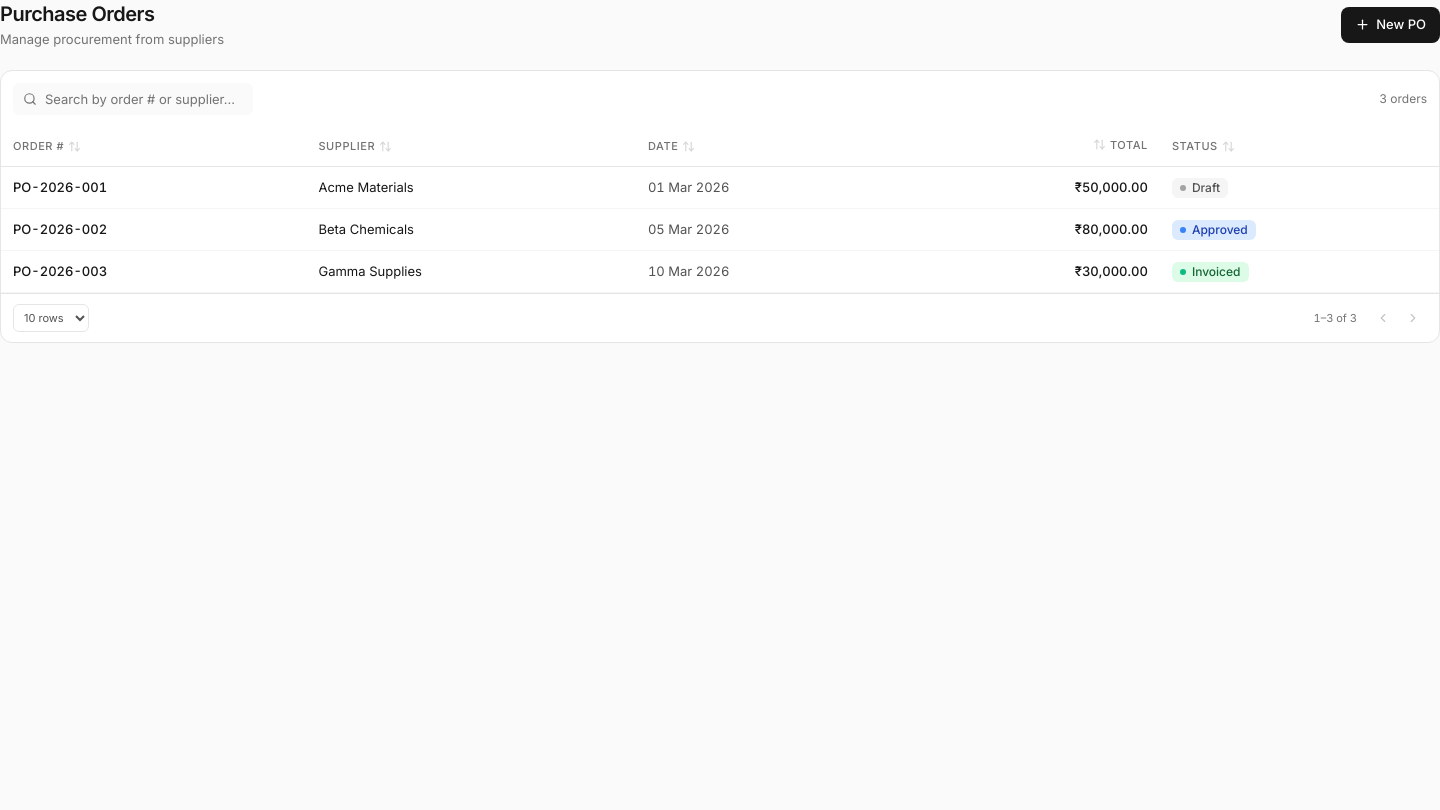
PurchaseOrdersPage › shows only Close Order action for INVOICED PO (VAL-P2P-004)
What coordinates should you click on to do the following:
click the text "PO-2026-003"
I would click on:
 (60, 270)
Its box is 13,262 -> 107,278.
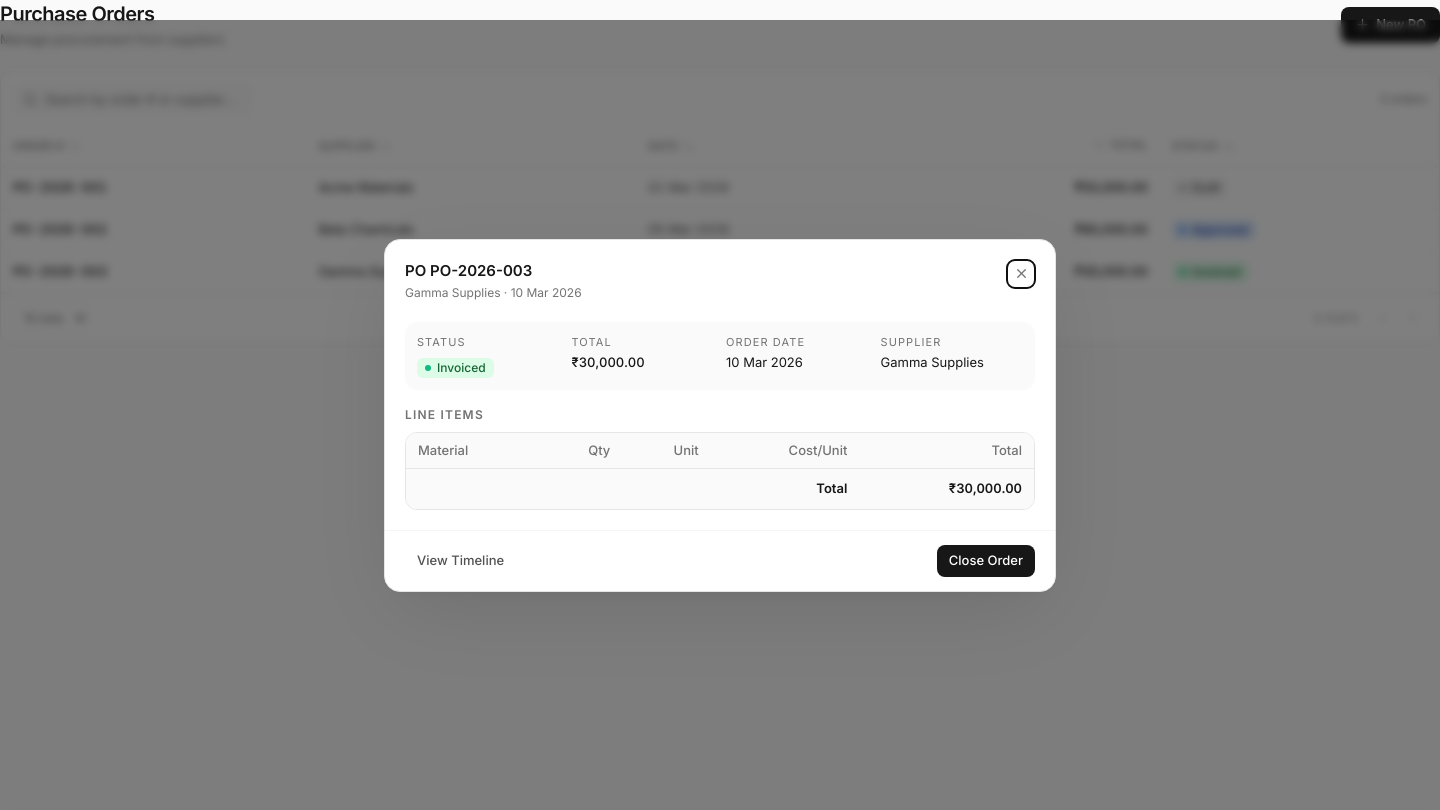
Expected: the button "Close Order" is shown, 937,544 -> 1035,576
